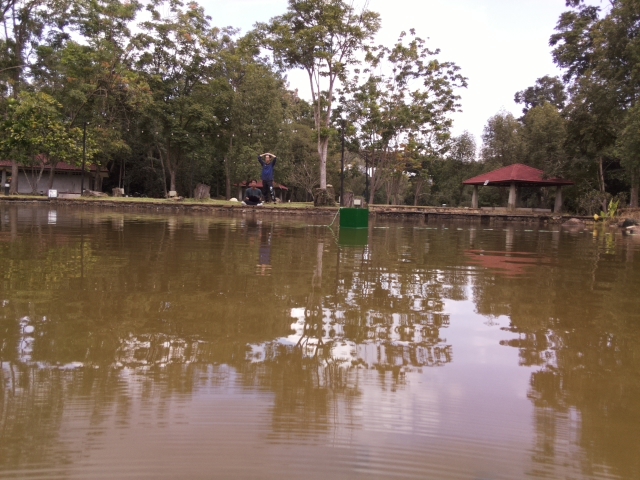obstacle: (339, 207, 370, 229)
